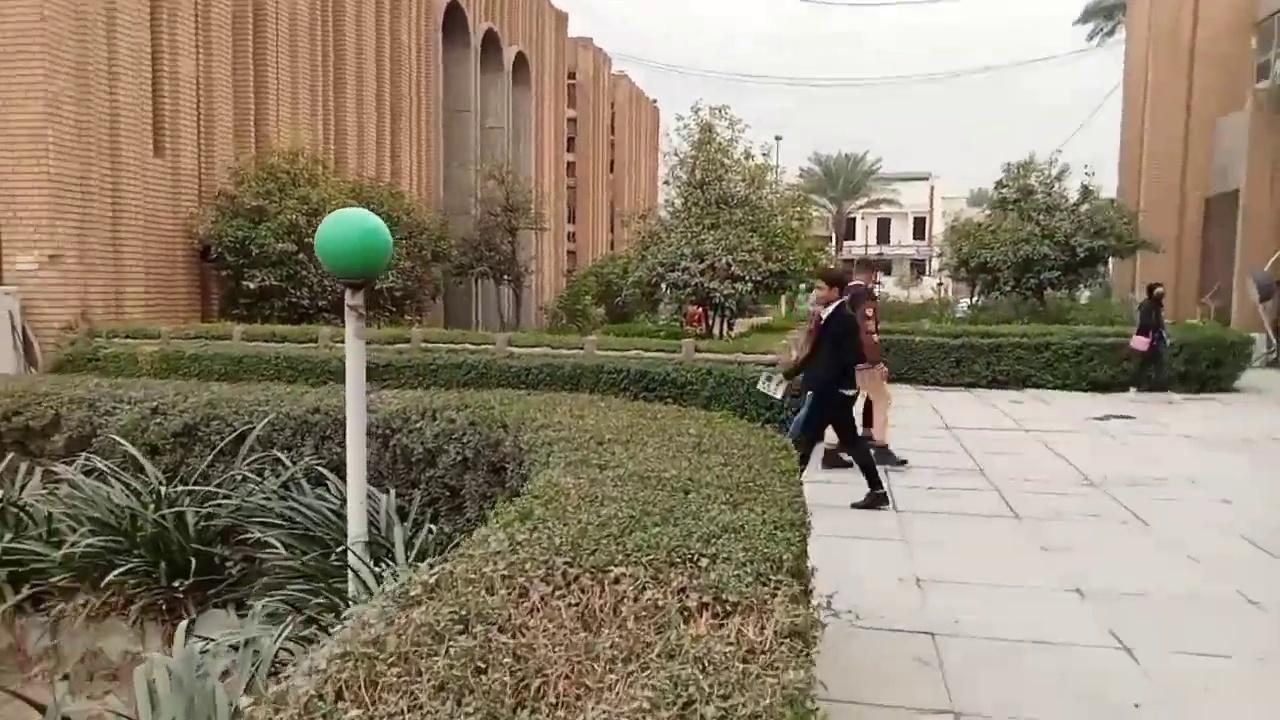fountain: (0, 283, 43, 381)
person: (782, 266, 890, 510), (829, 281, 908, 466), (1129, 281, 1171, 392)
tree: (5, 201, 824, 719), (617, 98, 827, 340), (186, 144, 454, 330), (934, 147, 1162, 316), (446, 153, 549, 333), (792, 147, 897, 267), (548, 248, 656, 334), (936, 212, 996, 308)
